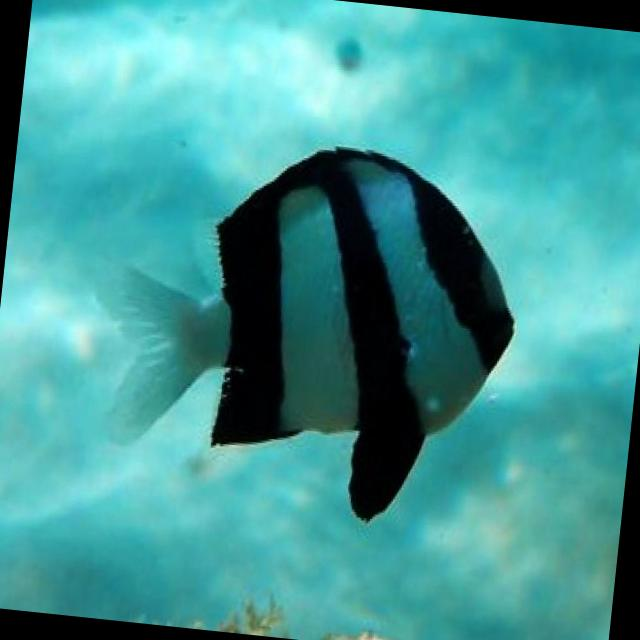Three_striped DasmselFish: (80, 120, 534, 540)
